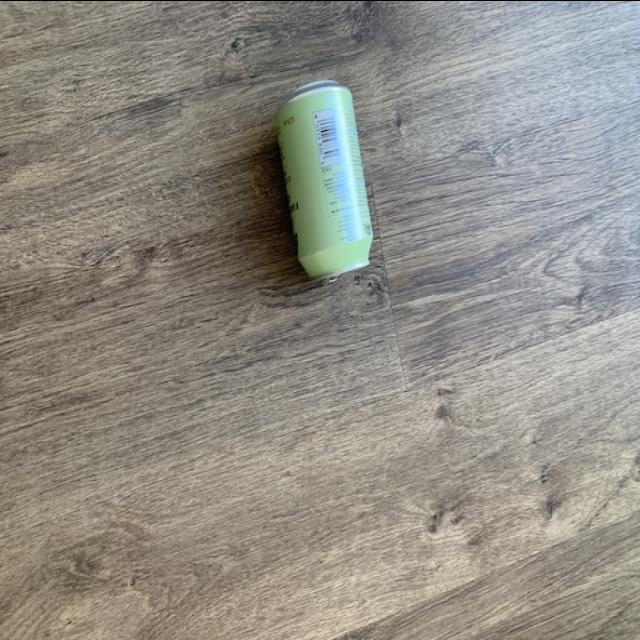Aluminum Can: (270, 76, 374, 288)
